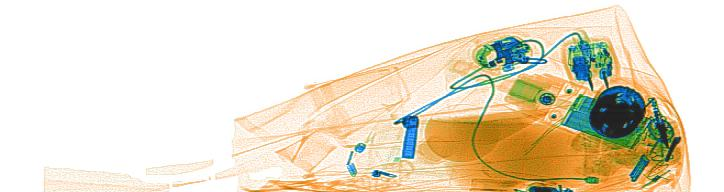battery: (560, 92, 654, 152)
